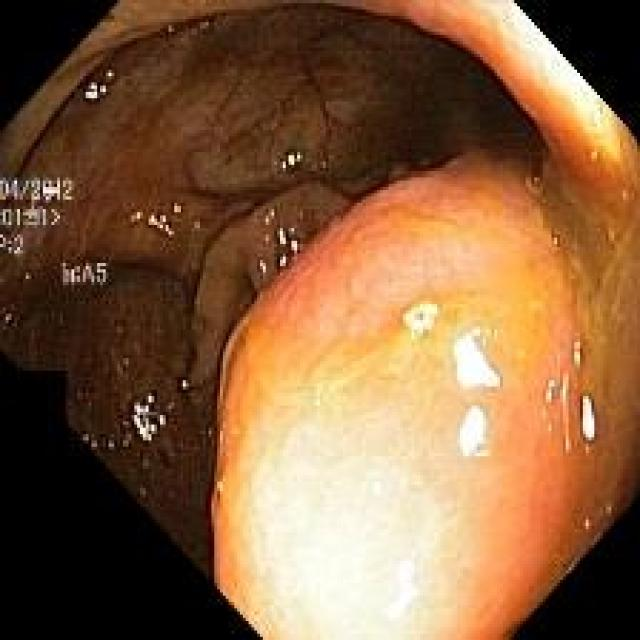Polyps: (212, 159, 618, 640)
